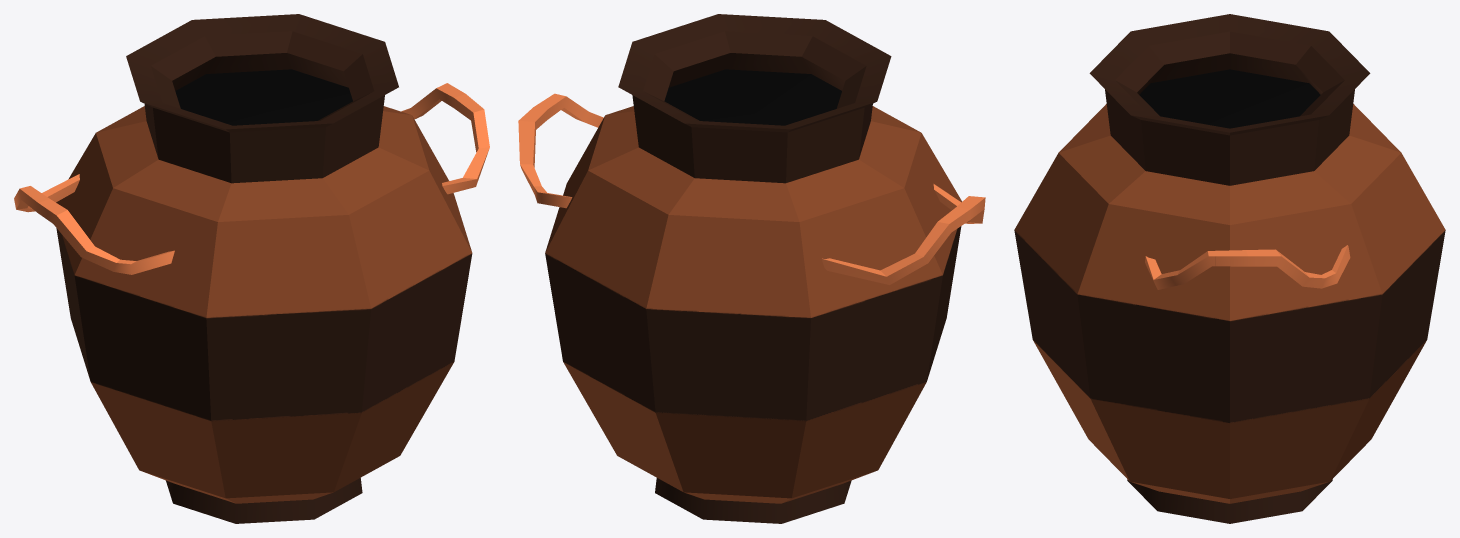
File: Pot.fbx
3 renders of one model, left to right at view 1: azimuth 30°, elevation 25°; view 2: azimuth 150°, elevation 25°; view 3: azimuth 270°, elevation 25°, orthographic.
Parts seen in each view (by area): view 1: Cylinder004; view 2: Cylinder004; view 3: Cylinder004.
Boxes of the visible parts, x1=… form: Cylinder004: x1=14, y1=14, x2=489, y2=523; Cylinder004: x1=518, y1=14, x2=985, y2=523; Cylinder004: x1=1014, y1=14, x2=1445, y2=523.
Bounding box in the file's own units: 18.76 × 16.99 × 16.32.
1 material, 1 textured.
